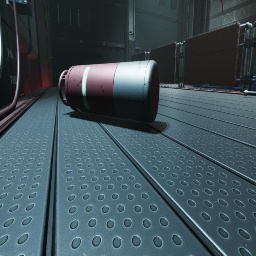NitrogenTank ,: (58, 60, 160, 123)
